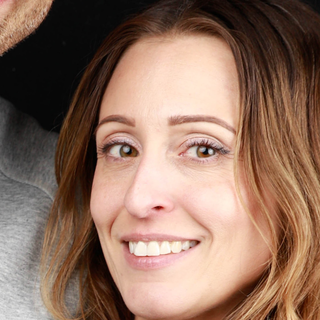eye: (179, 138, 227, 163), (102, 138, 143, 163)
